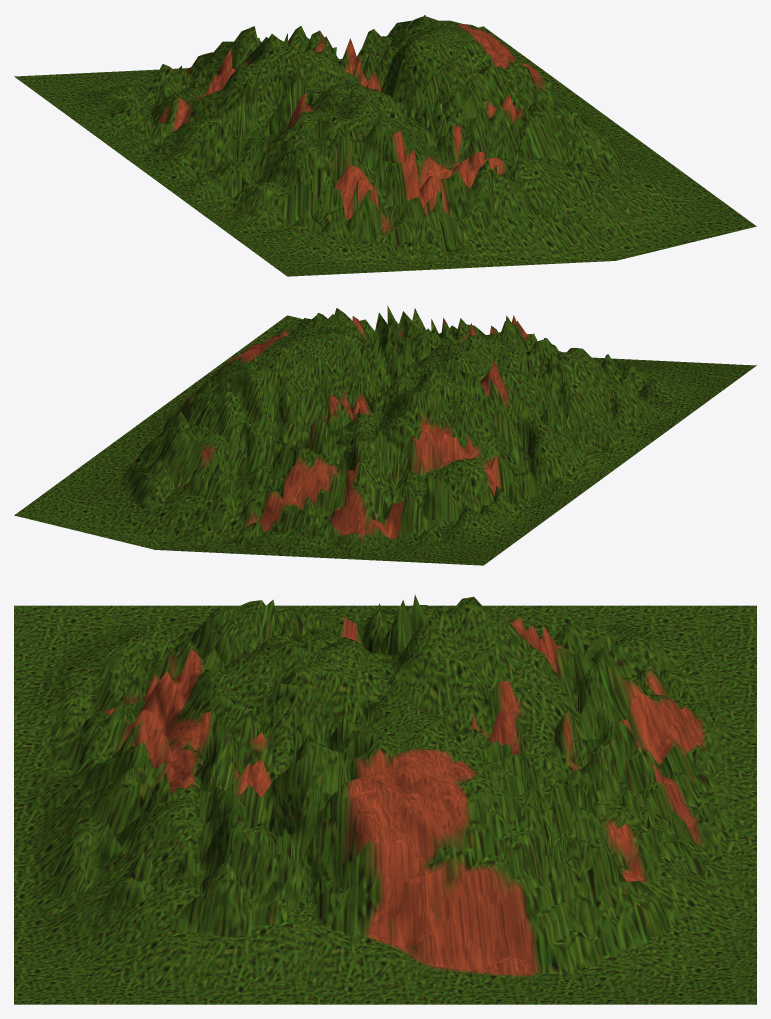
Rendered from mountain.obj.
3 renders of one model, top to bottom at view 1: azimuth 30°, elevation 25°; view 2: azimuth 150°, elevation 25°; view 3: azimuth 270°, elevation 25°, orthographic. The views are drawn at different scales.
Visible parts, largest first — view 1: Landscape.001; view 2: Landscape.001; view 3: Landscape.001.
Boxes of the visible parts, box(x1,y1,x2,y2) form: Landscape.001: box(14, 14, 756, 276); Landscape.001: box(14, 306, 756, 565); Landscape.001: box(14, 595, 756, 1004).
Size of the model in its own units: 1.98 by 0.5898 by 2.
